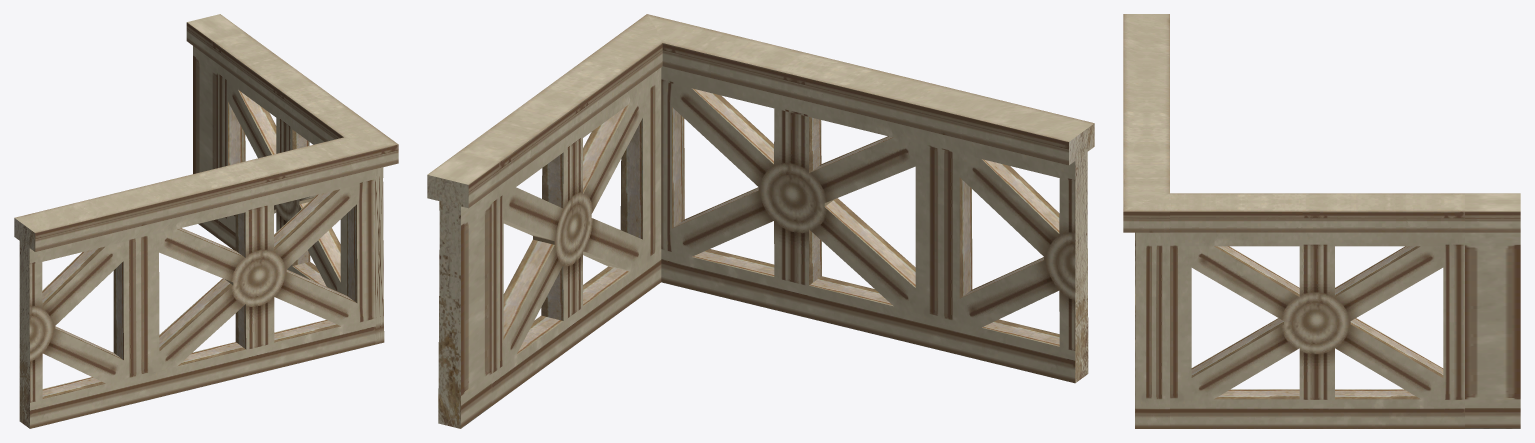
Rendered from svspartarail6.dae.
The picture shows the model from 3 angles, left to right: view 1: azimuth 30°, elevation 25°; view 2: azimuth 150°, elevation 25°; view 3: azimuth 270°, elevation 25°; orthographic projection. The views are drawn at different scales.
Parts seen in each view (by area): view 1: unnamed_object6_copy52-0; view 2: unnamed_object6_copy52-0; view 3: unnamed_object6_copy52-0.
Part boxes in pixels (left/top/right/bottom): unnamed_object6_copy52-0: left=14, top=14, right=398, bottom=428; unnamed_object6_copy52-0: left=427, top=14, right=1094, bottom=428; unnamed_object6_copy52-0: left=1123, top=14, right=1520, bottom=428.
Size of the model in its own units: 200 by 105 by 170.
